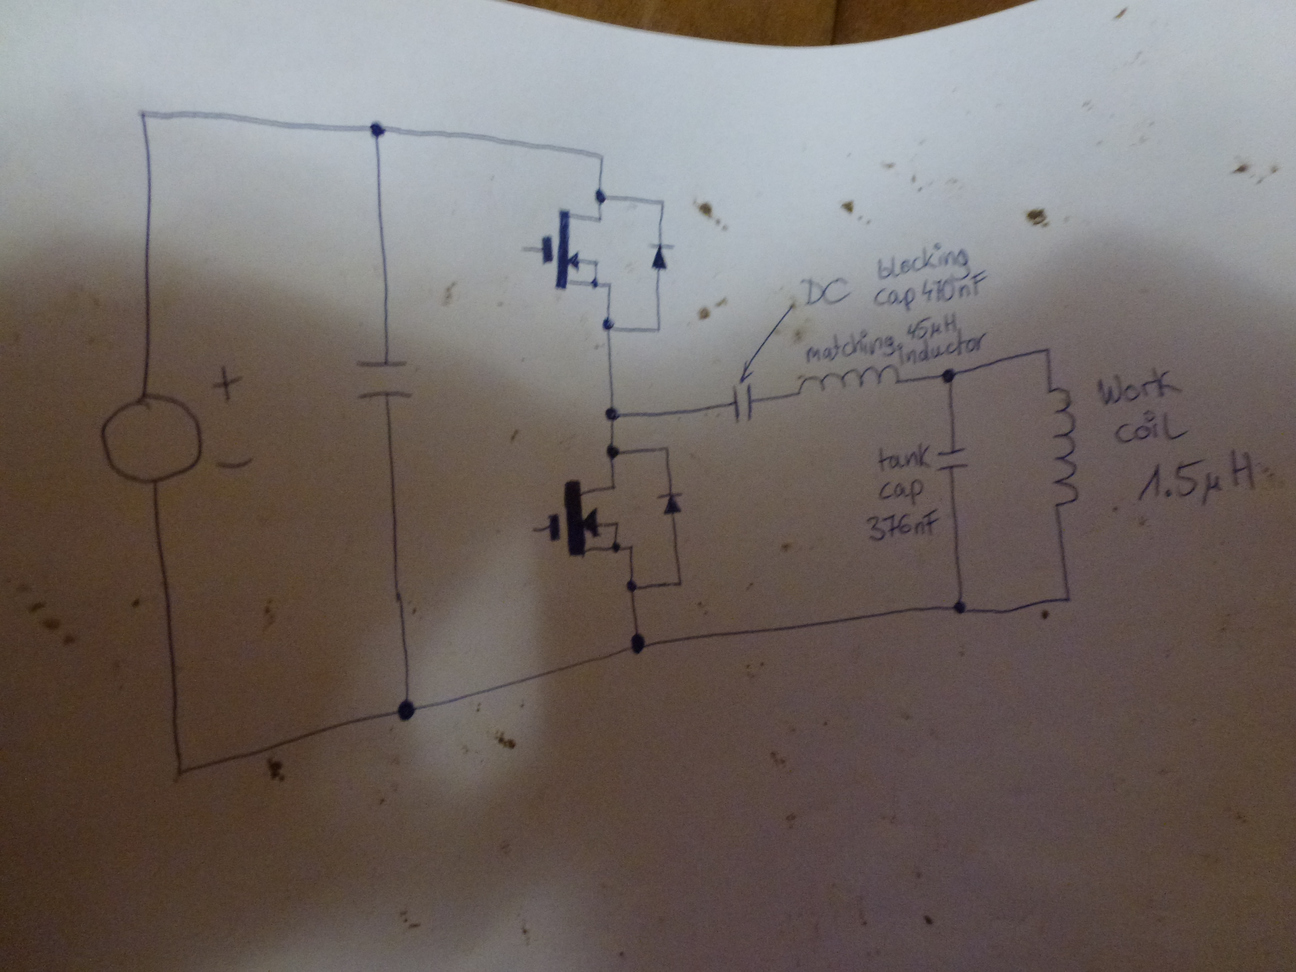capacitor.unpolarized: (351, 355, 416, 407), (730, 382, 756, 423), (934, 444, 969, 473)
diode: (645, 240, 677, 274), (654, 490, 686, 518)
inductor: (1042, 385, 1080, 511), (793, 363, 900, 399)
junction: (396, 696, 417, 723), (365, 117, 389, 141), (628, 632, 648, 657), (949, 595, 970, 617), (602, 403, 624, 423), (939, 364, 957, 387), (134, 105, 153, 125), (603, 441, 621, 460), (600, 315, 618, 334), (591, 186, 608, 204), (172, 764, 187, 784), (624, 577, 640, 594), (1058, 590, 1074, 606), (1040, 343, 1054, 356), (651, 322, 665, 335), (594, 149, 607, 162), (655, 195, 668, 208), (672, 577, 686, 589), (660, 442, 672, 454)
terminal: (517, 239, 531, 255), (526, 524, 539, 536)
text: (1136, 448, 1259, 507), (871, 268, 988, 312), (875, 240, 971, 282), (1096, 363, 1184, 407), (803, 327, 897, 363), (896, 331, 988, 364), (1113, 407, 1190, 446), (863, 507, 942, 542), (799, 274, 852, 309), (875, 443, 932, 472), (904, 312, 958, 340), (875, 477, 925, 505)
transistor: (546, 477, 636, 561), (537, 208, 614, 292)
voltage.dc: (92, 391, 208, 487)
